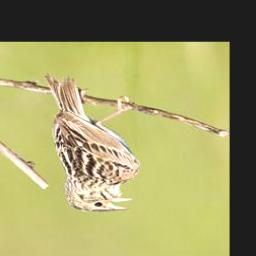Sparrow: (43, 72, 142, 214)
